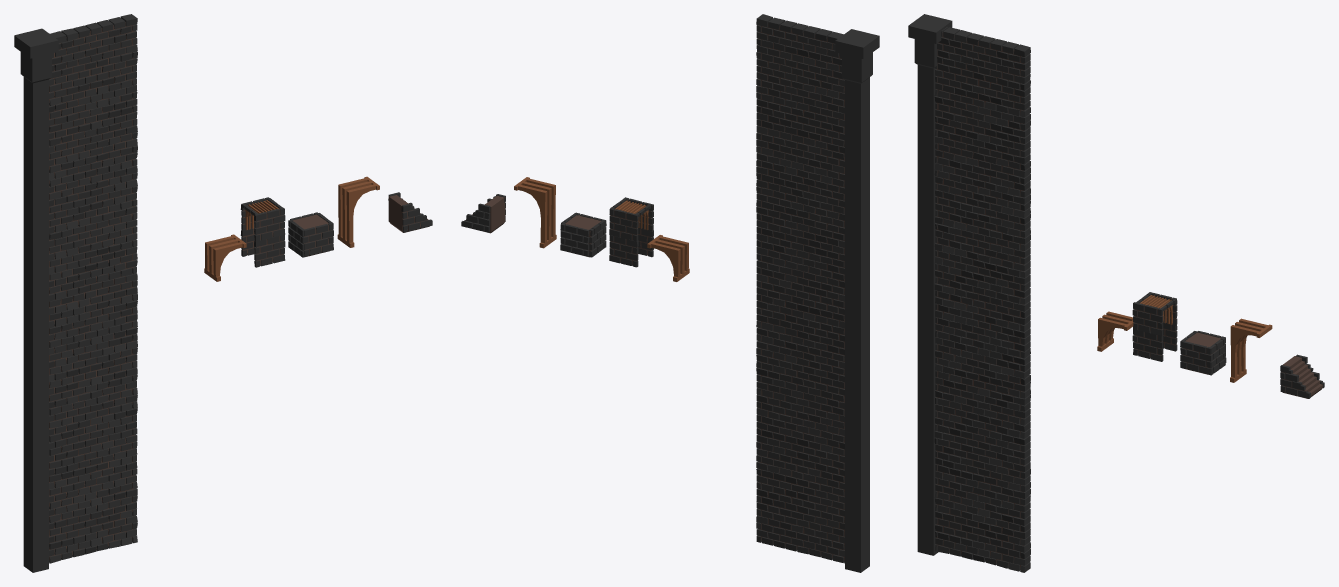
Rendered from interactAssets.fbx.
The picture shows the model from 3 angles, left to right: view 1: azimuth 30°, elevation 25°; view 2: azimuth 150°, elevation 25°; view 3: azimuth 330°, elevation 25°; orthographic projection.
Visible parts, largest first — view 1: Cube.002, Cube.007, Cube.091, Cube.034, Cube.057, Cube.060, Cube.037; view 2: Cube.002, Cube.007, Cube.091, Cube.034, Cube.057, Cube.060, Cube.037; view 3: Cube.002, Cube.007, Cube.091, Cube.034, Cube.060, Cube.057, Cube.037.
Boxes of the visible parts, x1=… form: Cube.002: x1=49, y1=14, x2=137, y2=563; Cube.007: x1=14, y1=28, x2=58, y2=572; Cube.091: x1=240, y1=197, x2=285, y2=267; Cube.034: x1=288, y1=212, x2=333, y2=257; Cube.057: x1=337, y1=176, x2=379, y2=247; Cube.060: x1=388, y1=192, x2=432, y2=232; Cube.037: x1=204, y1=234, x2=246, y2=281; Cube.002: x1=756, y1=14, x2=844, y2=563; Cube.007: x1=835, y1=29, x2=879, y2=572; Cube.091: x1=609, y1=197, x2=653, y2=267; Cube.034: x1=560, y1=212, x2=606, y2=257; Cube.057: x1=514, y1=177, x2=556, y2=248; Cube.060: x1=461, y1=194, x2=505, y2=233; Cube.037: x1=647, y1=235, x2=689, y2=281; Cube.002: x1=934, y1=27, x2=1030, y2=572; Cube.007: x1=908, y1=14, x2=952, y2=555; Cube.091: x1=1132, y1=292, x2=1177, y2=361; Cube.034: x1=1180, y1=331, x2=1226, y2=375; Cube.060: x1=1280, y1=354, x2=1324, y2=398; Cube.057: x1=1230, y1=318, x2=1272, y2=382; Cube.037: x1=1097, y1=311, x2=1133, y2=351.
Bounding box in the file's own units: 7317 × 9196 × 516.
